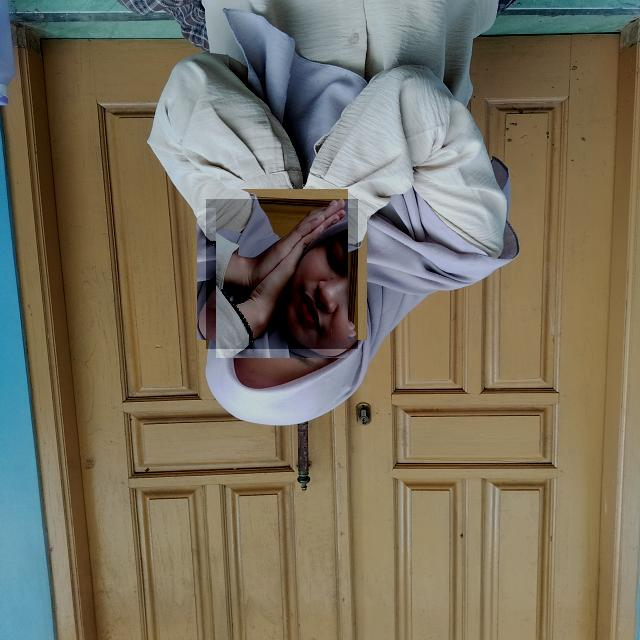tidur: (206, 199, 358, 349)
